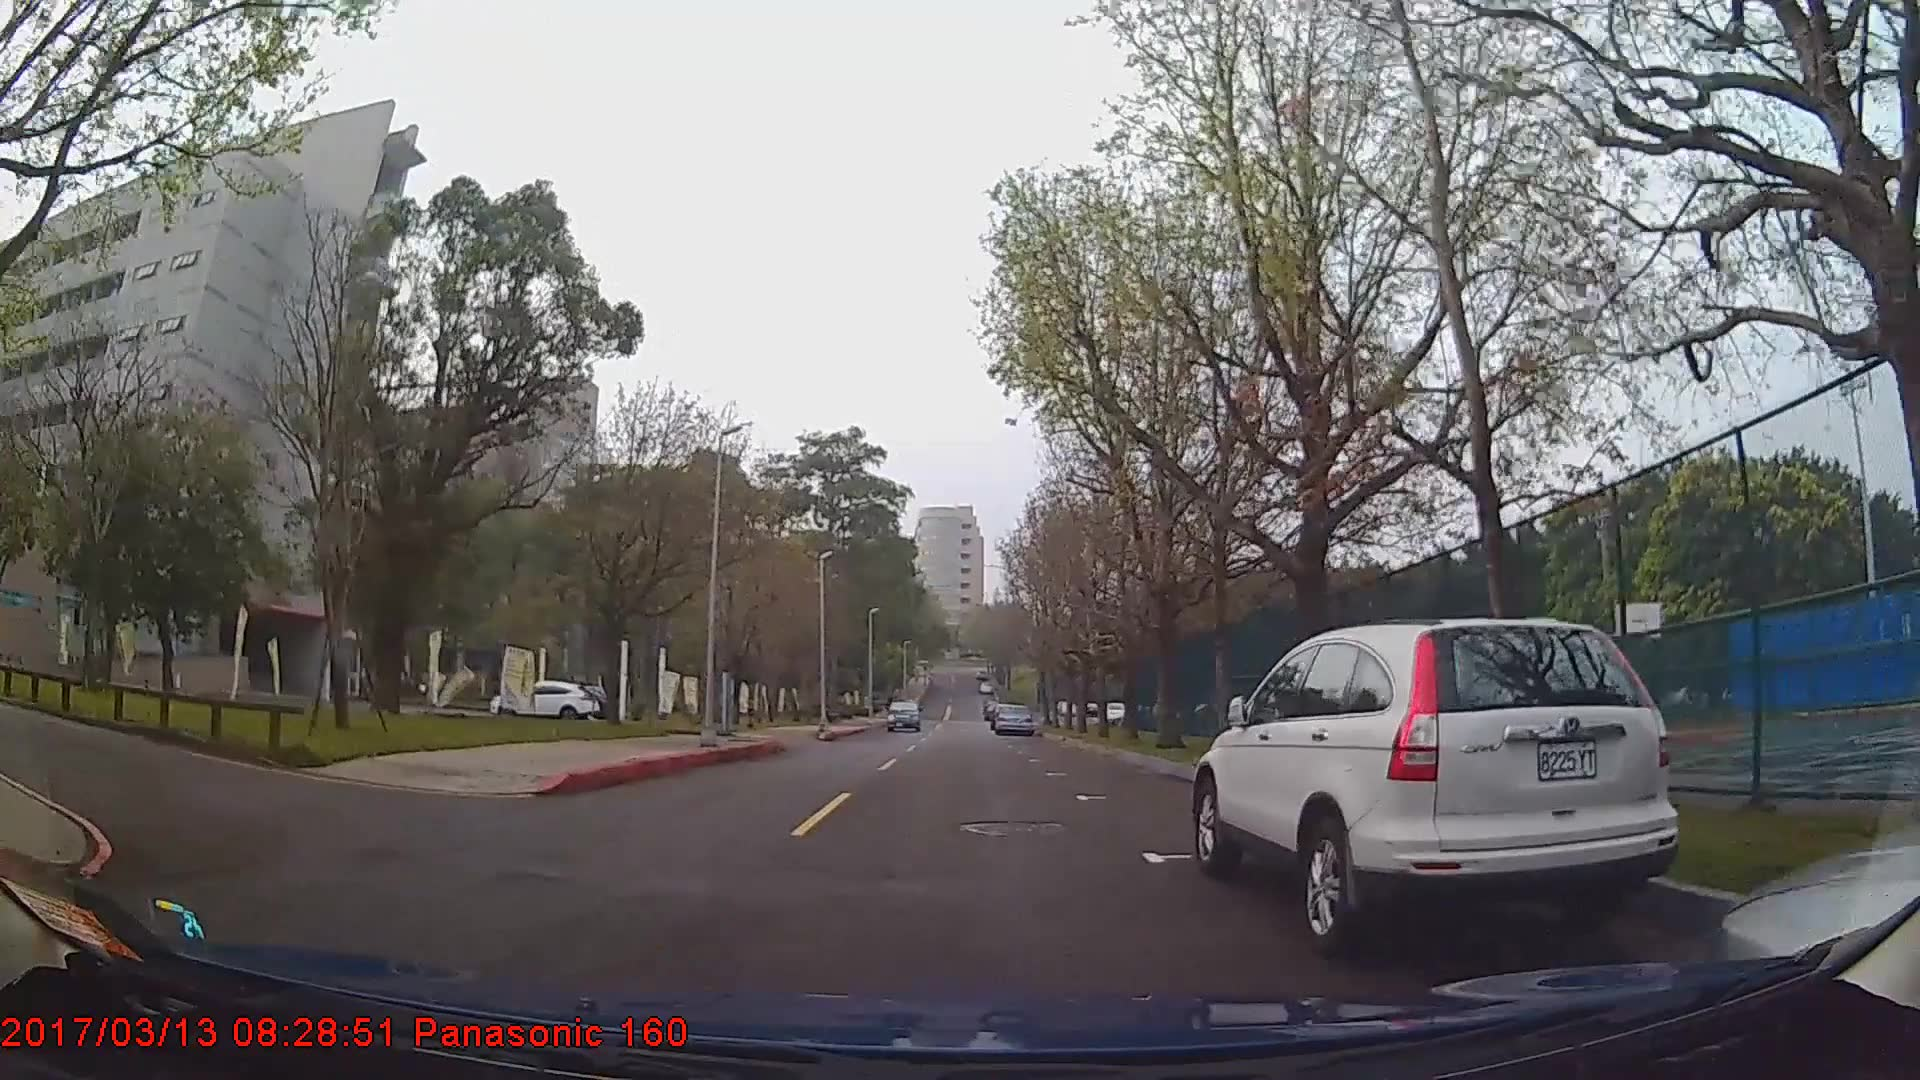vehicle: (1191, 613, 1681, 952), (493, 679, 600, 721), (992, 700, 1033, 733), (887, 698, 920, 732)
